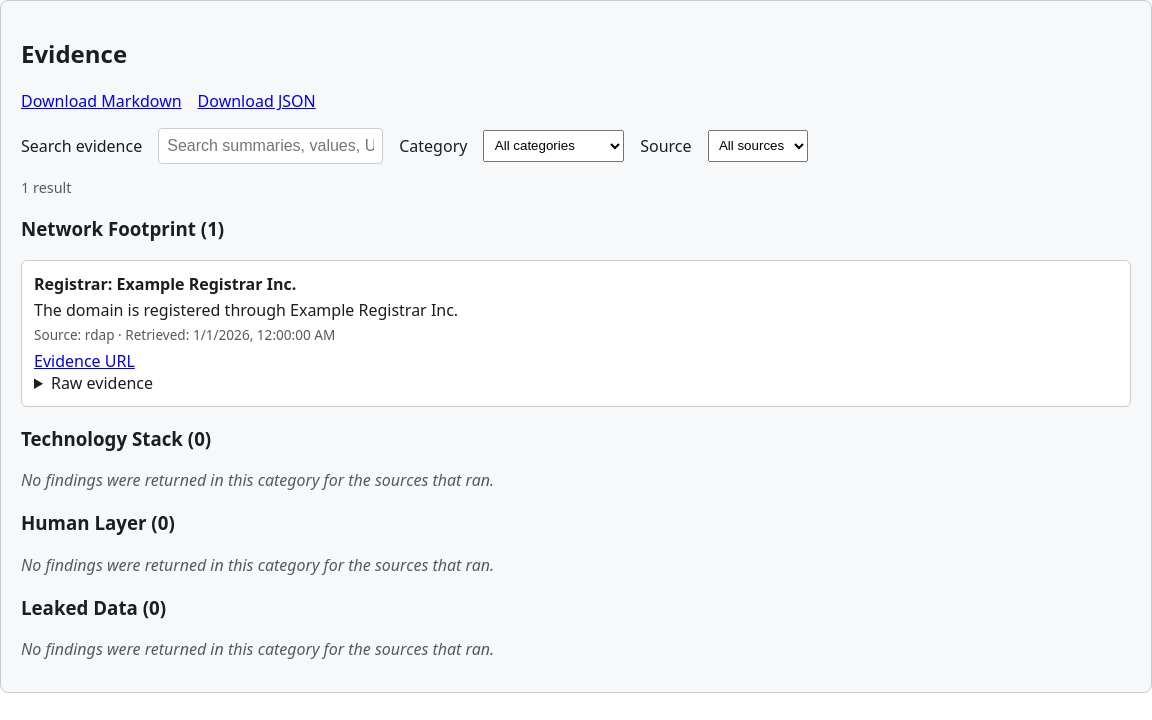
Test: FindingsView › clear all resets the filters and re-fetches the unfiltered list
expect the heading "Network Footprint (1)" is shown: met, box x1=21 y1=216 x2=224 y2=241
Type "nothing-like-this" into the field labelled "Search evidence".
click(271, 146); type("nothing-like-this")  # box x1=158 y1=128 x2=383 y2=164
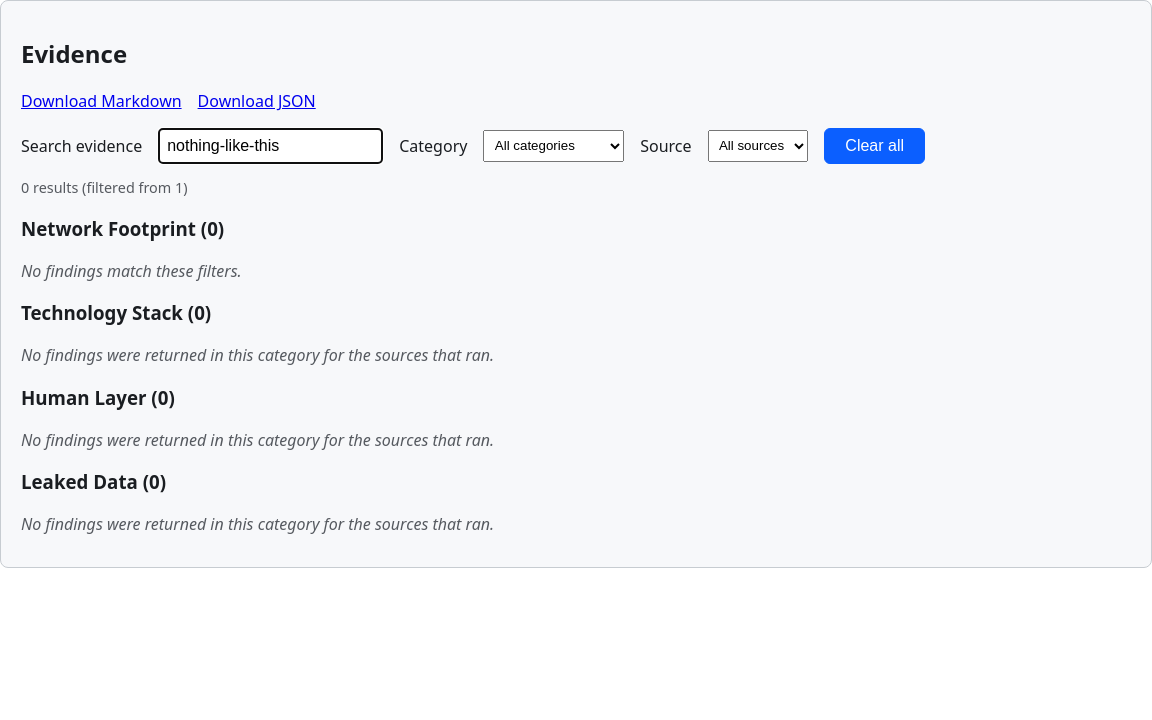
expect the text "No findings match these filters." is shown: met, box x1=21 y1=260 x2=242 y2=282
Click the button "Clear all".
click(875, 146)  # box x1=824 y1=128 x2=925 y2=164
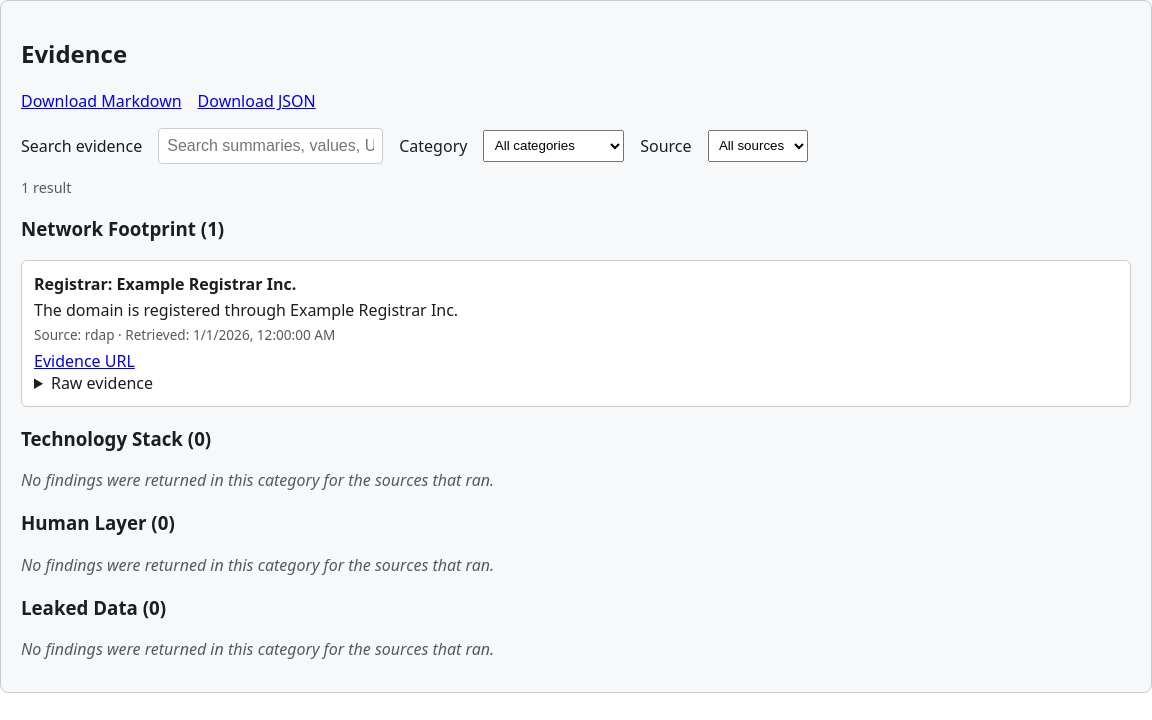
expect the heading "Network Footprint (1)" is shown: met, box x1=21 y1=216 x2=224 y2=241
expect the button "Clear all" is gone: met
